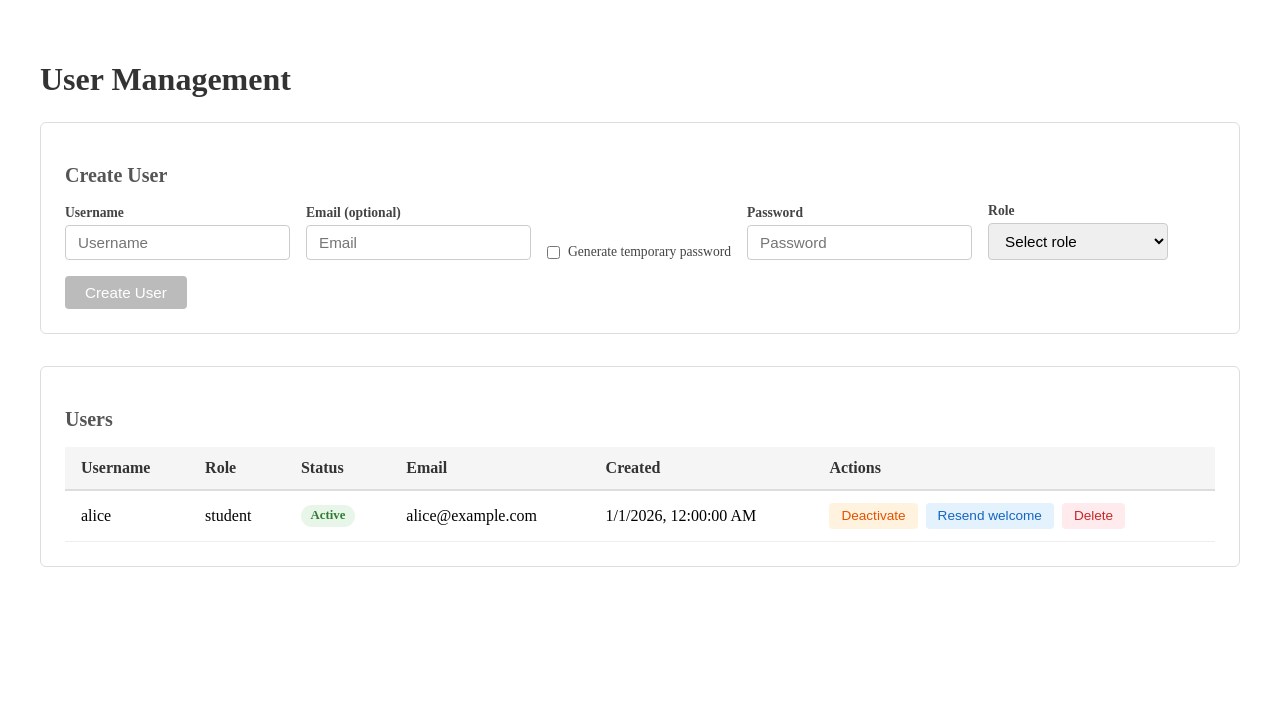
UserManagementView › resend welcome shows temp password when email not sent
Step 1. Click the button with class "resend-btn" → (990, 516), box x1=926 y1=503 x2=1054 y2=529
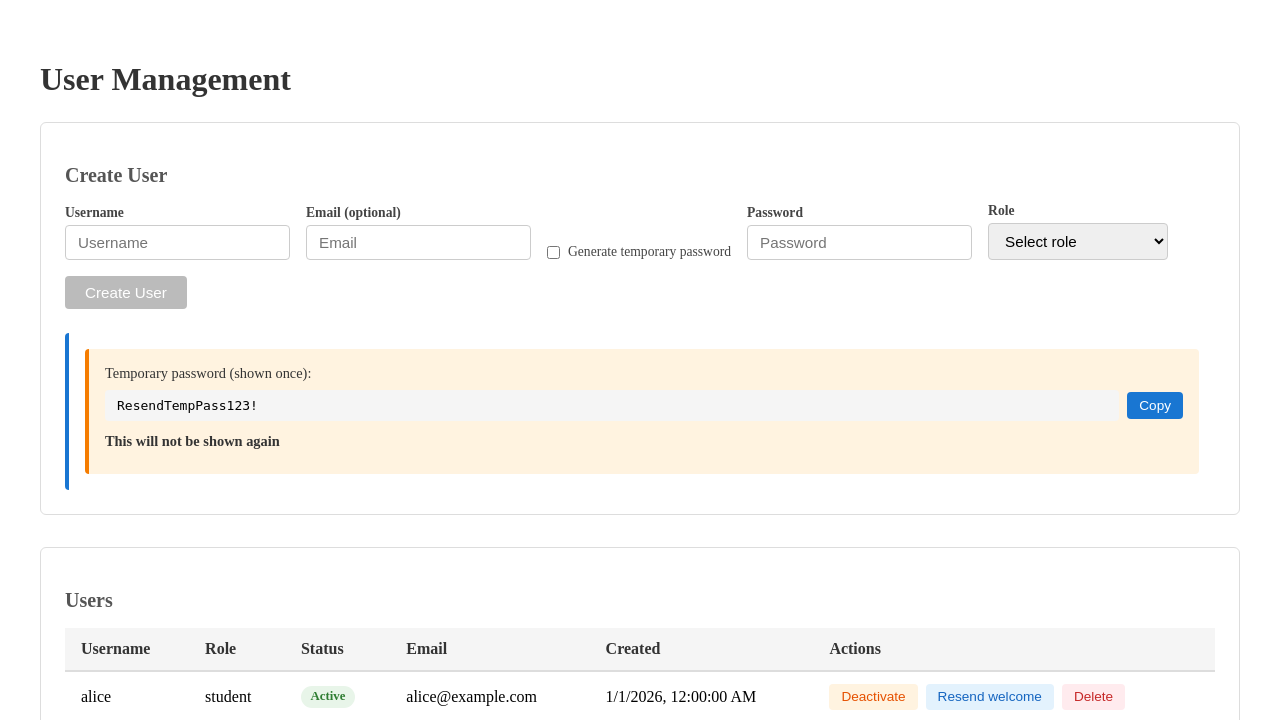
Expected: the element with class "temp-password-message" is shown, x1=85 y1=349 x2=1199 y2=474
Expected: the element with class "temp-password-message" shows "ResendTempPass123!", x1=117 y1=398 x2=258 y2=413
